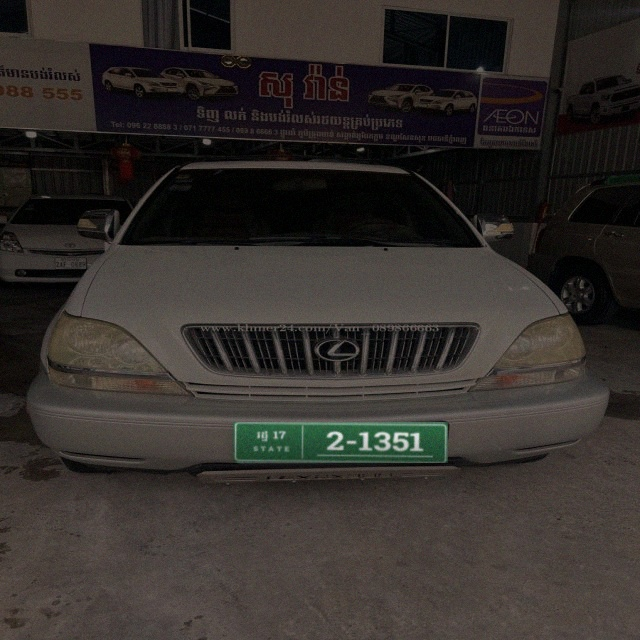Plate Number: (233, 422, 448, 463)
